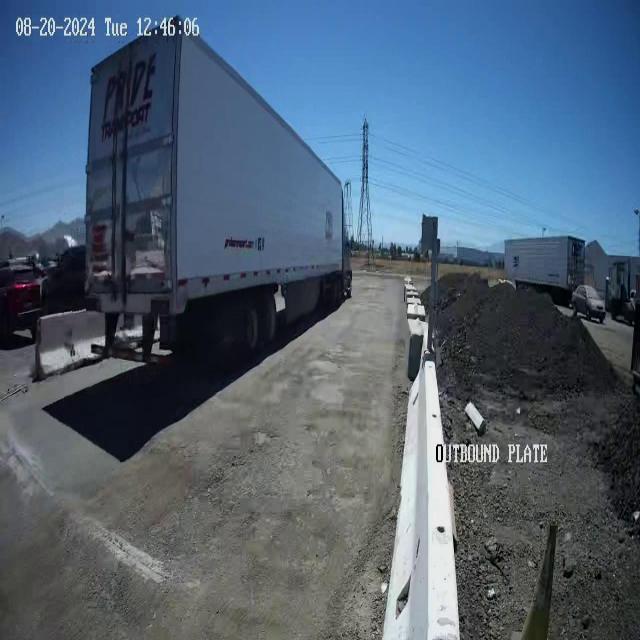TRUCK_CONTAINER: (82, 15, 352, 357)
